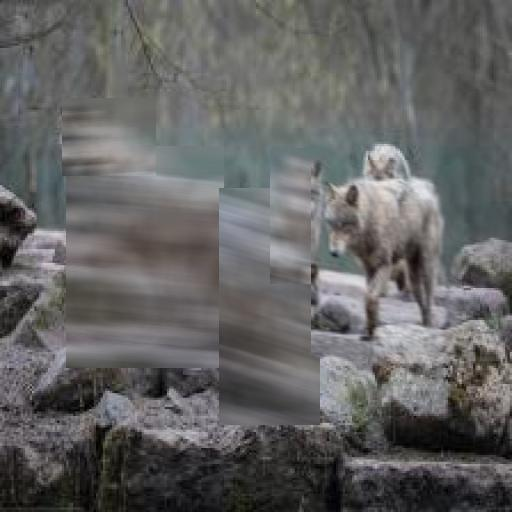wolf: (66, 146, 224, 368), (311, 160, 462, 357), (219, 188, 320, 425), (270, 148, 329, 284), (62, 98, 156, 176)
